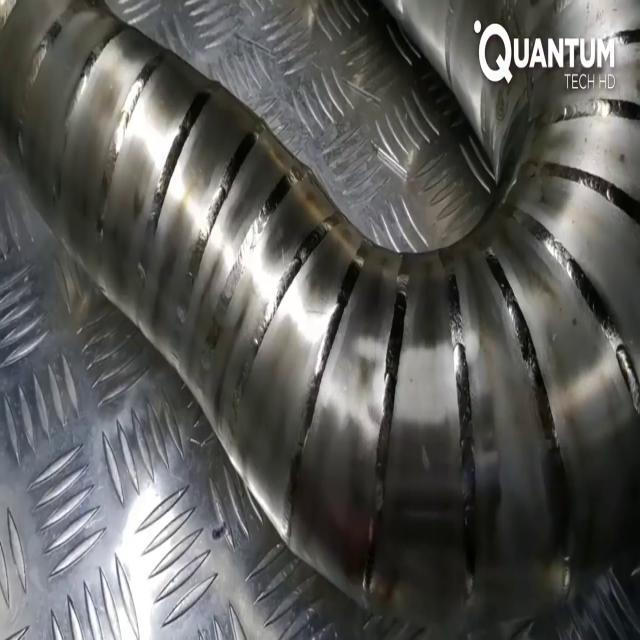Good Weld: (186, 159, 347, 493), (486, 264, 570, 554), (430, 262, 482, 606), (371, 270, 406, 607), (57, 52, 101, 162), (18, 20, 48, 160), (112, 66, 150, 172)
